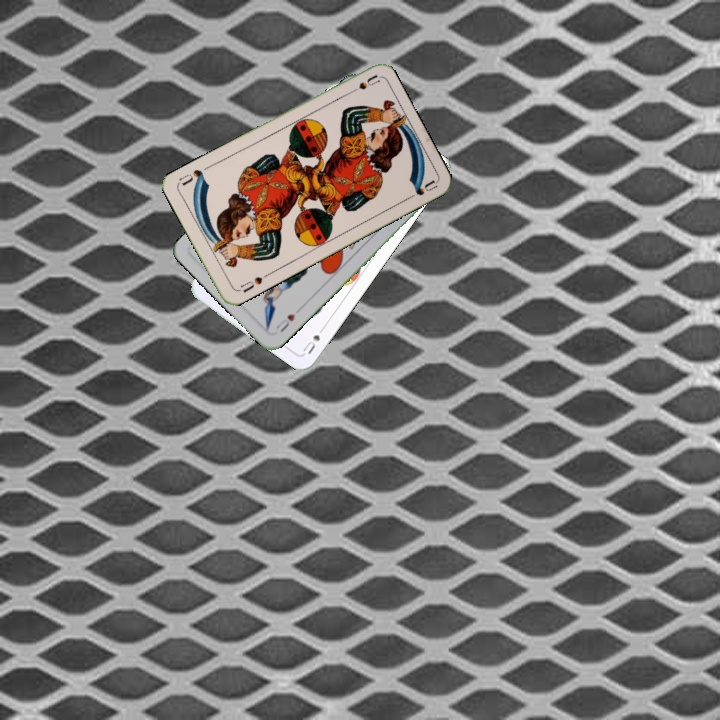HU: (272, 309, 297, 335)
SU: (342, 71, 381, 98), (299, 321, 328, 357), (234, 269, 271, 296)
